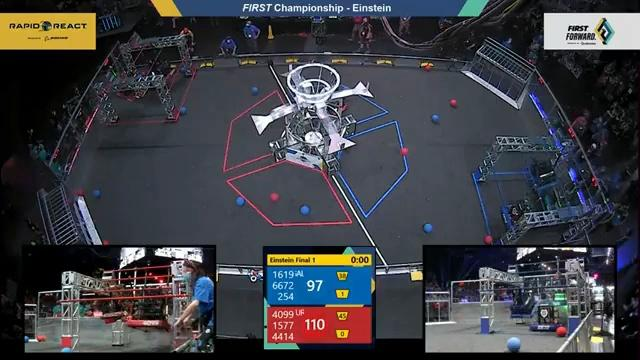robot: (539, 177, 594, 227), (126, 285, 170, 330), (499, 193, 543, 237), (523, 146, 564, 192), (140, 49, 178, 90), (109, 65, 146, 107), (321, 85, 355, 127), (528, 302, 560, 333), (508, 289, 536, 319), (515, 320, 524, 326)
